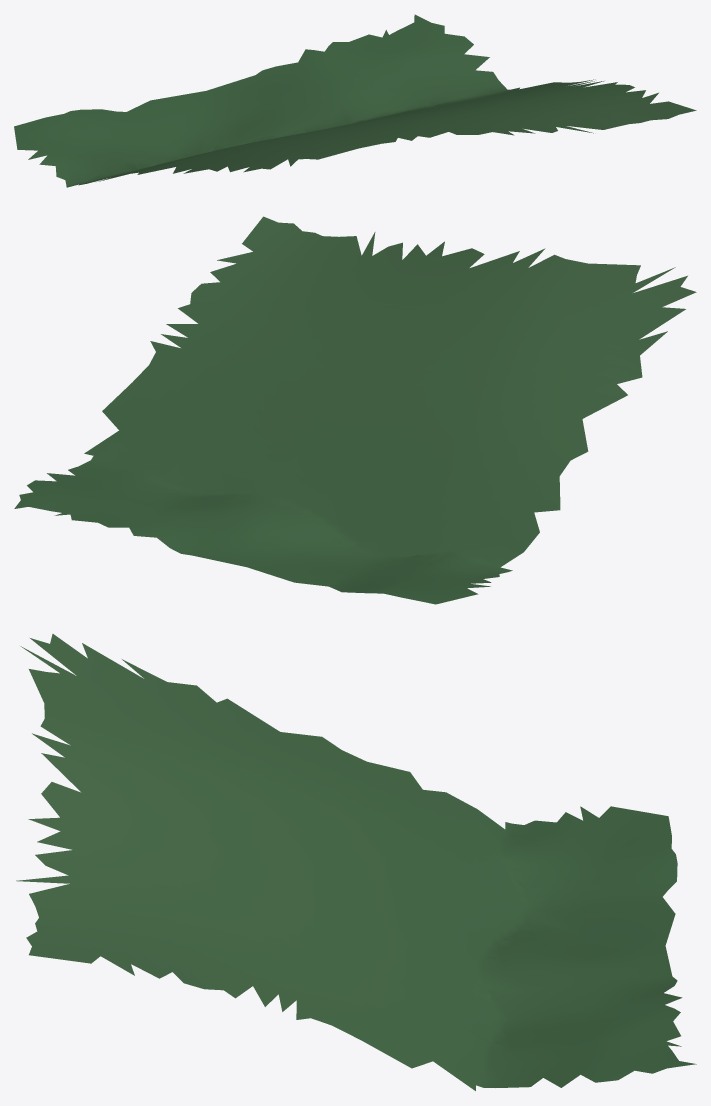
Rendered from payo_land_x3_y9.glb.
3 views of the same model, one above another, from view 1: azimuth 30°, elevation 25°; view 2: azimuth 150°, elevation 25°; view 3: azimuth 270°, elevation 25° (orthographic). The views are drawn at different scales.
Visible parts, largest first — view 1: payo_land_x3_y9; view 2: payo_land_x3_y9; view 3: payo_land_x3_y9.
Boxes of the visible parts, x1=… form: payo_land_x3_y9: x1=14, y1=14, x2=696, y2=187; payo_land_x3_y9: x1=14, y1=216, x2=696, y2=604; payo_land_x3_y9: x1=16, y1=634, x2=696, y2=1090.
Size of the model in its own units: 273 by 93.69 by 280.
